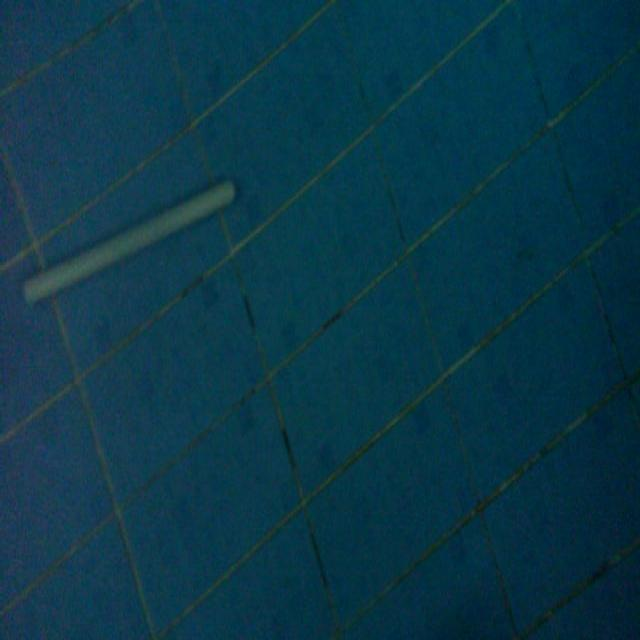Cube: (20, 172, 237, 310)
